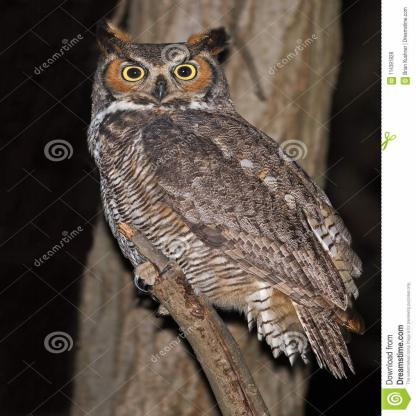owl: (70, 0, 416, 416)
